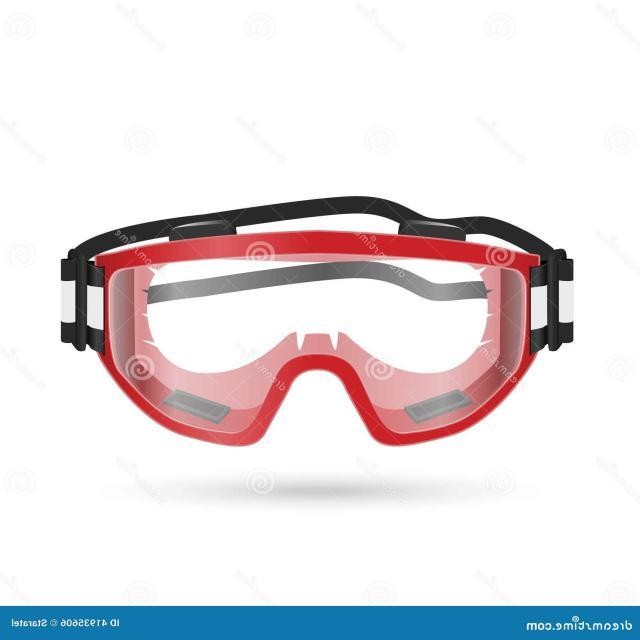Goggles: (33, 190, 620, 455)
